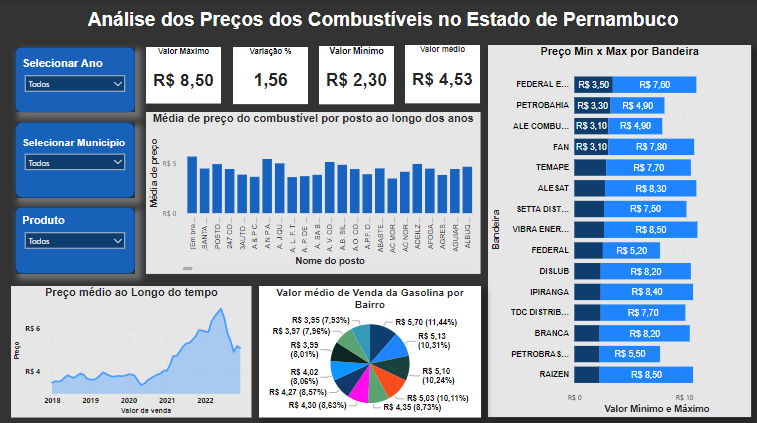

The dashboard page shown, as its layout file describes it:
{"tool":"powerbi","page":{"name":"Página 1","canvas":[1280,720],"ordinal":0},"visuals":[{"type":"shape","box":[0,0,1280,720.6],"z":0},{"type":"barChart","title":"Preço Min x Max por Bandeira","fields":{"Y":["Min(public fato_venda.valor_venda)","Max(public fato_venda.valor_venda)1"],"Category":["public dim_produto.bandeira"]},"box":[823,78,442,625],"z":1000},{"type":"card","title":"Valor Mínimo","fields":{"Values":["Min(public fato_venda.valor_venda)"]},"box":[540,78.3,125.8,97.5],"z":2000},{"type":"card","title":"Valor Máximo","fields":{"Values":["Max(public fato_venda.valor_venda)"]},"box":[248.8,80.4,126.2,95.4],"z":3000},{"type":"card","title":"Variação %","fields":{"Values":["Sum(public fato_venda.valor_venda_n)"]},"box":[394.2,80,125.8,95.8],"z":4000},{"type":"textbox","box":[13.4,11.8,1266.6,55.4],"z":5000},{"type":"shape","box":[28.3,80,201.7,110],"z":6000},{"type":"slicer","title":"Selecionar Ano","fields":{"Values":["public dim_tempo.ano","public dim_tempo.mes"]},"box":[35,96.7,188.3,76.7],"z":7000},{"type":"shape","box":[28,206,202,128],"z":8000},{"type":"slicer","title":"Selecionar Municipio","fields":{"Values":["public dim_local.municipio"]},"box":[35,230,188.3,73.3],"z":9000},{"type":"shape","box":[28,350,202,112],"z":10000},{"type":"slicer","title":"Produto","fields":{"Values":["public dim_produto.descricao"]},"box":[35,361.7,188.3,78.3],"z":11000},{"type":"card","title":"Valor médio","fields":{"Values":["Avg(public fato_venda.valor_venda)"]},"box":[684,78,126,98],"z":12000},{"type":"areaChart","title":"Preço médio ao Longo do tempo","fields":{"Y":["Avg(public fato_venda.valor_venda)"],"Category":["public dim_tempo.datacompleta.Variation.Hierarquia de datas.Ano","public dim_tempo.datacompleta.Variation.Hierarquia de datas.Mês"]},"box":[21.4,481.4,404.3,221.4],"z":13000},{"type":"pieChart","title":"Valor médio de Venda da Gasolina por Bairro","fields":{"Category":["public dim_local.bairro"],"Y":["Avg(public fato_venda.valor_venda)"]},"box":[438.6,481.4,372.9,221.4],"z":14000},{"type":"clusteredColumnChart","title":"Média de preço do combustível por posto ao longo dos anos","fields":{"Category":["public dim_local.nome_posto","public dim_tempo.datacompleta.Variation.Hierarquia de datas.Ano","public dim_tempo.datacompleta.Variation.Hierarquia de datas.Mês"],"Y":["Avg(public fato_venda.valor_venda)"]},"box":[248.3,190,561.7,271.7],"z":15000}]}

Visuals, with their boxes in screenshot pixels (x1, y1, x2, y2), scaled from the page's 1280x720 canvas onto the 757x423 screenshot:
shape: [0, 0, 756, 422]
"Preço Min x Max por Bandeira" barChart: [487, 46, 748, 413]
"Valor Mínimo" card: [319, 46, 394, 103]
"Valor Máximo" card: [147, 47, 222, 103]
"Variação %" card: [233, 47, 308, 103]
textbox: [8, 7, 756, 39]
shape: [17, 47, 136, 112]
"Selecionar Ano" slicer: [21, 57, 132, 102]
shape: [17, 121, 136, 196]
"Selecionar Municipio" slicer: [21, 135, 132, 178]
shape: [17, 206, 136, 271]
"Produto" slicer: [21, 212, 132, 258]
"Valor médio" card: [405, 46, 479, 103]
"Preço médio ao Longo do tempo" areaChart: [13, 283, 252, 413]
"Valor médio de Venda da Gasolina por Bairro" pieChart: [259, 283, 480, 413]
"Média de preço do combustível por posto ao longo dos anos" clusteredColumnChart: [147, 112, 479, 271]
